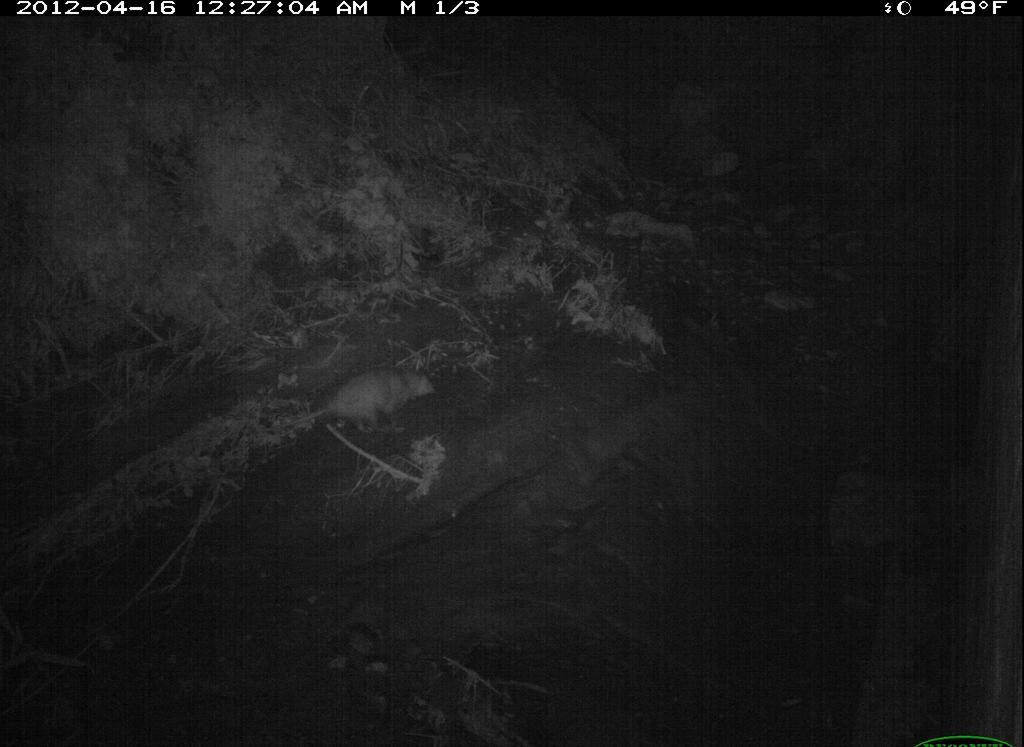opossum: (259, 354, 451, 436)
